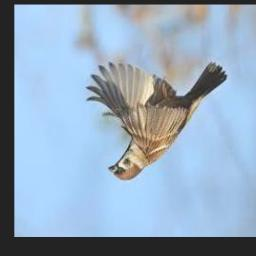Sparrow: (86, 61, 226, 181)
